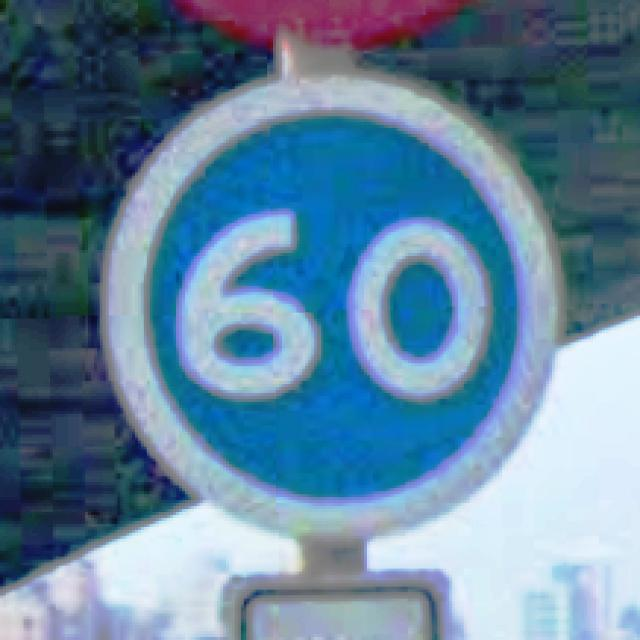min60: (97, 65, 564, 542)
